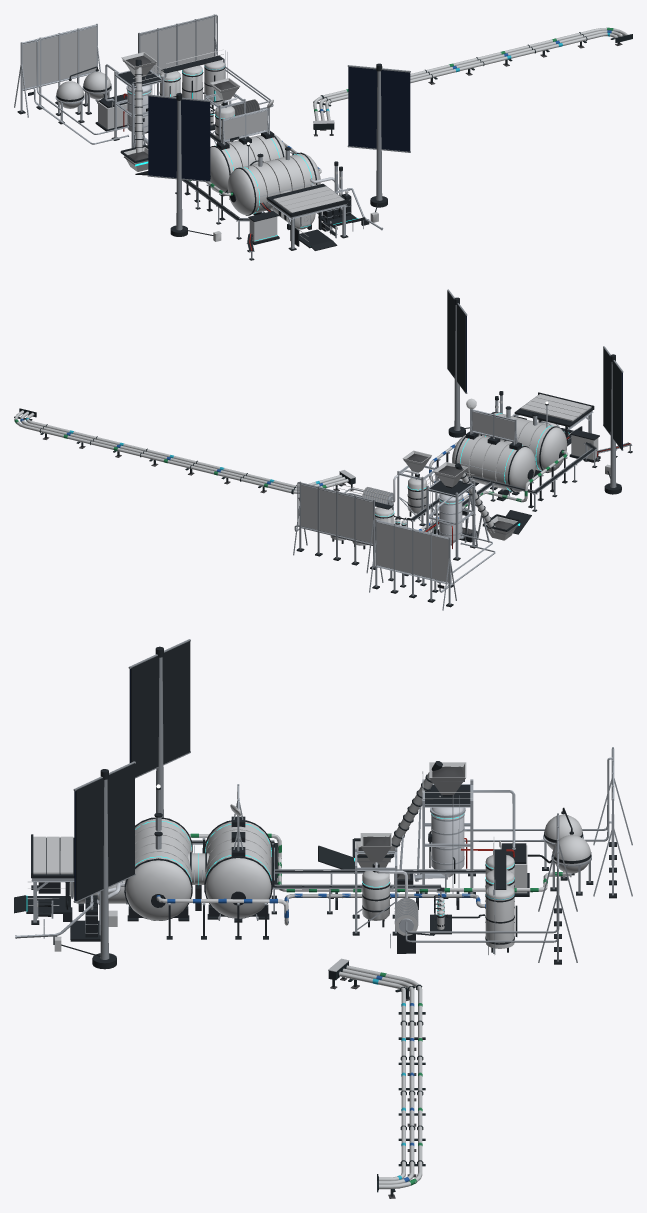
Rendered from life_support_ls6113fa89.glb.
3 views of the same model, one above another, from view 1: azimuth 30°, elevation 25°; view 2: azimuth 150°, elevation 25°; view 3: azimuth 270°, elevation 25° (orthographic). The views are drawn at different scales.
Parts seen in each view (by area): view 1: LS_Paint, Tier_20, LS_Metal, Tier_03, LS_Pipes_Mesh, Tier_05, Tier_12; view 2: LS_Paint, LS_Metal, Tier_20, Tier_03, LS_Pipes_Mesh; view 3: LS_Paint, Tier_20, LS_Metal, LS_Pipes_Mesh, Tier_03, Tier_12, Tier_05.
Part boxes in pixels (<box>): LS_Paint: <box>17,26,369,260</box>; Tier_20: <box>147,63,410,241</box>; LS_Metal: <box>14,23,383,259</box>; Tier_03: <box>138,14,273,109</box>; LS_Pipes_Mesh: <box>313,27,632,136</box>; Tier_05: <box>82,69,111,114</box>; Tier_12: <box>204,60,225,105</box>; LS_Paint: <box>332,391,632,607</box>; LS_Metal: <box>333,395,632,610</box>; Tier_20: <box>447,289,623,494</box>; Tier_03: <box>293,481,377,573</box>; LS_Pipes_Mesh: <box>14,408,355,500</box>; LS_Paint: <box>14,761,616,953</box>; Tier_20: <box>54,639,190,969</box>; LS_Metal: <box>15,747,632,954</box>; LS_Pipes_Mesh: <box>328,958,425,1198</box>; Tier_03: <box>405,813,577,964</box>; Tier_12: <box>485,885,514,948</box>; Tier_05: <box>550,831,593,895</box>.
Size of the model in its own units: 64.45 by 15.5 by 44.94.
